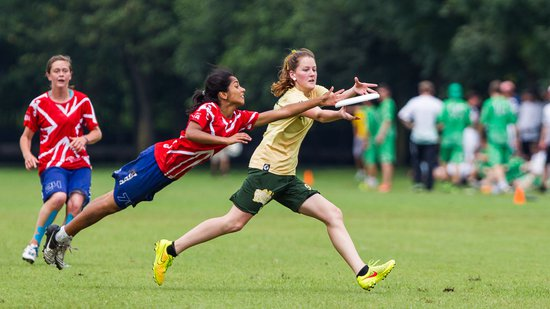disc: (337, 93, 382, 108)
